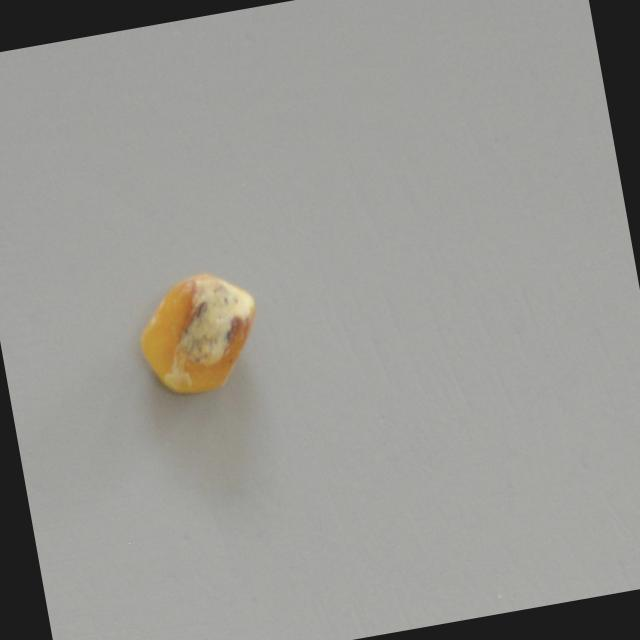dañado: (123, 262, 271, 408)
